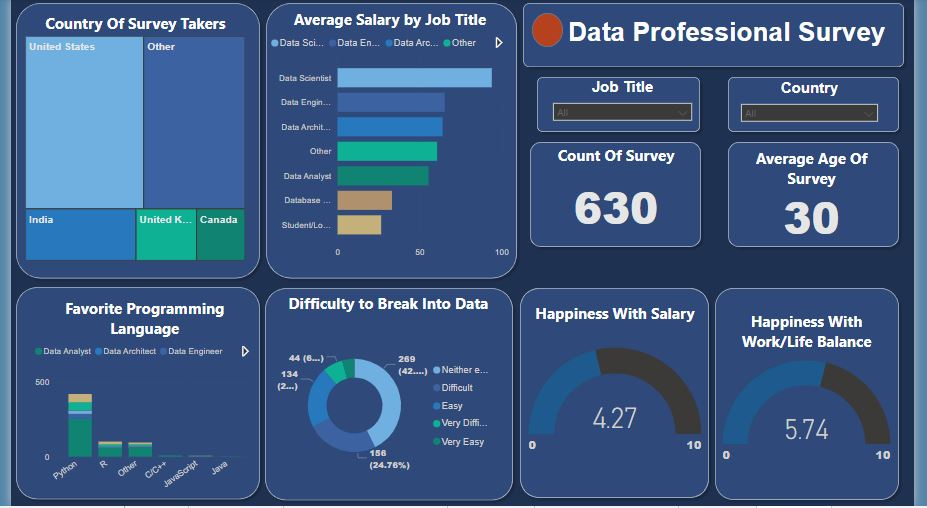

The page's visual inventory and layout, read from the dashboard file:
{"tool":"powerbi","page":{"name":"Project","canvas":[1280,720],"ordinal":5},"visuals":[{"type":"barChart","title":"Average Salary by Job Title","fields":{"Category":["Data Professional Survey.Q1 - Which Title Best Fits your Current Role?.1"],"Y":["Avg(Data Professional Survey.Average Salary)"],"Series":["Data Professional Survey.Q1 - Which Title Best Fits your Current Role?.1"]},"box":[399.3,109,394.2,357.3],"z":0},{"type":"treemap","title":"Country Of Survey Takers","fields":{"Group":["Data Professional Survey.Q11 - Which Country do you live in?.1"],"Values":["CountNonNull(Data Professional Survey.Unique ID)"]},"box":[0,109,399.3,308.7],"z":1000},{"type":"card","fields":{"Values":["Avg(Data Professional Survey.Q10 - Current Age)"]},"box":[1036.7,109,243.3,151],"z":2000},{"type":"card","fields":{"Values":["CountNonNull(Data Professional Survey.Unique ID)"]},"box":[793.5,109,243.3,151],"z":3000},{"type":"textbox","box":[0,0,1280,109],"z":4000},{"type":"gauge","title":"Happiness With Work/Life Balance","fields":{"Y":["Avg(Data Professional Survey.Q6 - How Happy are you in your Current Position with the following? (Work/Life Balance))"],"MinValue":["Min(Data Professional Survey.Q6 - How Happy are you in your Current Position with the following? (Work/Life Balance))"],"MaxValue":["Max(Data Professional Survey.Q6 - How Happy are you in your Current Position with the following? (Work/Life Balance))1"]},"box":[793.7,259.4,321.7,206.9],"z":5000},{"type":"gauge","title":"Happiness With Salary","fields":{"Y":["Avg(Data Professional Survey.Q6 - How Happy are you in your Current Position with the following? (Salary))"],"MinValue":["Min(Data Professional Survey.Q6 - How Happy are you in your Current Position with the following? (Salary))"],"MaxValue":["Max(Data Professional Survey.Q6 - How Happy are you in your Current Position with the following? (Salary))"]},"box":[793.7,466.3,321.7,253.7],"z":6000},{"type":"donutChart","title":"Difficulty to Break Into Data","fields":{"Category":["Data Professional Survey.Q7 - How difficult was it for you to break into Data?"],"Y":["CountNonNull(Data Professional Survey.Q7 - How difficult was it for you to break into Data?)"]},"box":[399.7,466.3,394,253.7],"z":7000},{"type":"columnChart","title":"Favorite Programming Language","fields":{"Category":["Data Professional Survey.Q5 - Favorite Programming Language.1"],"Y":["CountNonNull(Data Professional Survey.Unique ID)"],"Series":["Data Professional Survey.Q1 - Which Title Best Fits your Current Role?.1"]},"box":[0,417.7,399.3,302],"z":8000},{"type":"slicer","title":"Job Title","fields":{"Values":["Data Professional Survey.Q1 - Which Title Best Fits your Current Role?.1"]},"box":[1130.7,275.1,147.6,248.3],"z":9000},{"type":"slicer","title":"Country","fields":{"Values":["Data Professional Survey.Q11 - Which Country do you live in?.1"]},"box":[1130.7,536.8,149.3,182.9],"z":10000}]}

Visuals, with their boxes in screenshot pixels (x1, y1, x2, y2), scaled from the page's 1280x720 canvas onto the 927x508 screenshot:
"Average Salary by Job Title" barChart: {"x1": 289, "y1": 77, "x2": 575, "y2": 329}
"Country Of Survey Takers" treemap: {"x1": 0, "y1": 77, "x2": 289, "y2": 295}
card - Avg(Data Professional Survey.Q10 - Current Age): {"x1": 751, "y1": 77, "x2": 926, "y2": 183}
card - CountNonNull(Data Professional Survey.Unique ID): {"x1": 575, "y1": 77, "x2": 751, "y2": 183}
textbox: {"x1": 0, "y1": 0, "x2": 926, "y2": 77}
"Happiness With Work/Life Balance" gauge: {"x1": 575, "y1": 183, "x2": 808, "y2": 329}
"Happiness With Salary" gauge: {"x1": 575, "y1": 329, "x2": 808, "y2": 507}
"Difficulty to Break Into Data" donutChart: {"x1": 289, "y1": 329, "x2": 575, "y2": 507}
"Favorite Programming Language" columnChart: {"x1": 0, "y1": 295, "x2": 289, "y2": 507}
"Job Title" slicer: {"x1": 819, "y1": 194, "x2": 926, "y2": 369}
"Country" slicer: {"x1": 819, "y1": 379, "x2": 926, "y2": 507}
